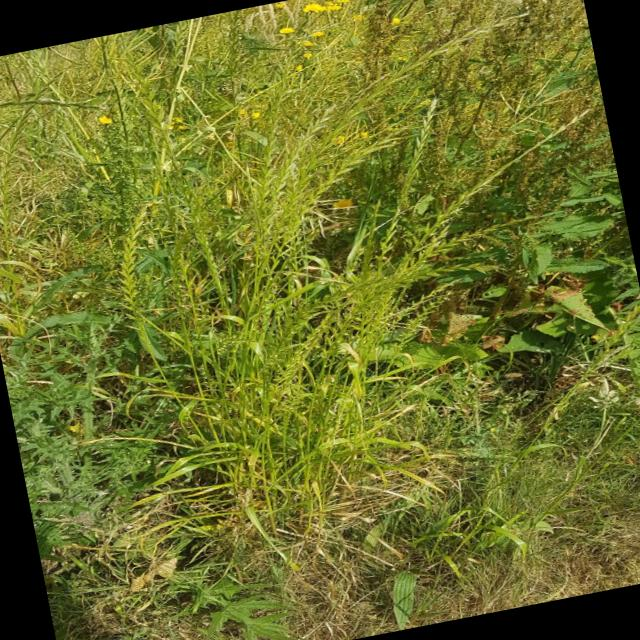Lolium: (338, 212, 571, 340), (246, 107, 361, 249), (268, 253, 495, 316), (272, 144, 392, 258), (248, 296, 362, 399), (106, 212, 165, 320), (380, 290, 466, 355)
